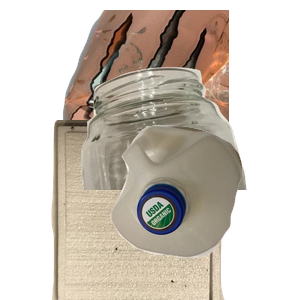glass: (74, 65, 300, 245)
metal: (60, 10, 300, 190)
plastic: (108, 123, 300, 300)
trash: (49, 120, 269, 300)
